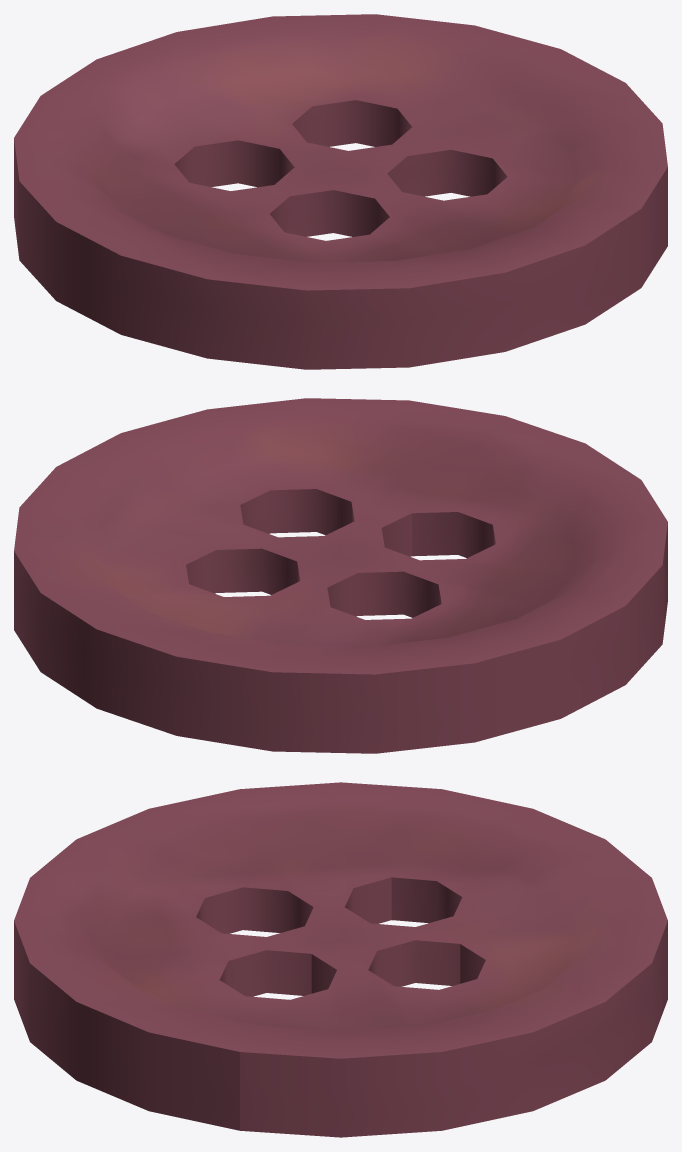
File: SM_Farm_Button_02.fbx
3 renders of one model, top to bottom at view 1: azimuth 30°, elevation 25°; view 2: azimuth 150°, elevation 25°; view 3: azimuth 270°, elevation 25°, orthographic.
Visible parts, largest first — view 1: SM_Farm_Button_02_LOD0; view 2: SM_Farm_Button_02_LOD0; view 3: SM_Farm_Button_02_LOD0.
Part boxes in pixels (box(x1,y1,x2,y2)): SM_Farm_Button_02_LOD0: box(14, 14, 667, 369); SM_Farm_Button_02_LOD0: box(14, 398, 667, 753); SM_Farm_Button_02_LOD0: box(14, 782, 667, 1137).
Bounding box in the file's own units: 5.88 × 0.7813 × 5.88.
